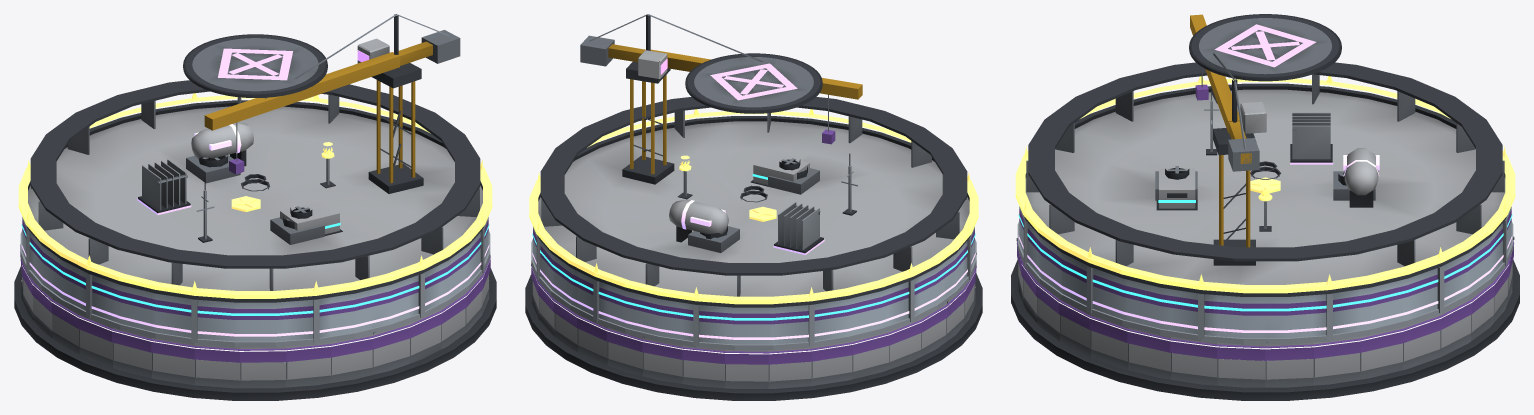
The model's file is cold_storage_m_far.glb.
The picture shows the model from 3 angles, left to right: view 1: azimuth 30°, elevation 25°; view 2: azimuth 150°, elevation 25°; view 3: azimuth 270°, elevation 25°; orthographic projection. The views are drawn at different scales.
Parts seen in each view (by area): view 1: Roof, Base, L5, L4, L2, L3; view 2: Roof, Base, L5, L4, L2, L3; view 3: Roof, Base, L5, L4, L2, L3.
Part boxes in pixels (x1,y1,x2,y2): Roof: (22,14,488,342); Base: (14,244,496,400); L5: (18,93,492,298); L4: (21,122,489,336); L2: (20,177,490,347); L3: (21,174,489,315); Roof: (533,14,974,345); Base: (525,253,982,400); L5: (529,109,978,304); L4: (532,199,975,339); L2: (531,153,976,350); L3: (532,153,975,320); Roof: (1019,14,1511,339); Base: (1011,236,1519,400); L5: (1015,76,1515,293); L4: (1018,112,1512,332); L2: (1017,87,1513,344); L3: (1018,161,1512,311).
Bounding box in the file's own units: 13.25 × 8.03 × 13.25.
